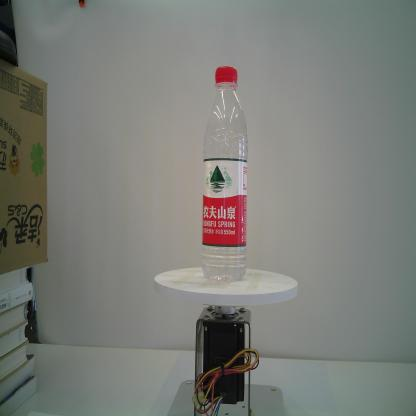Drink: (202, 66, 247, 284)
